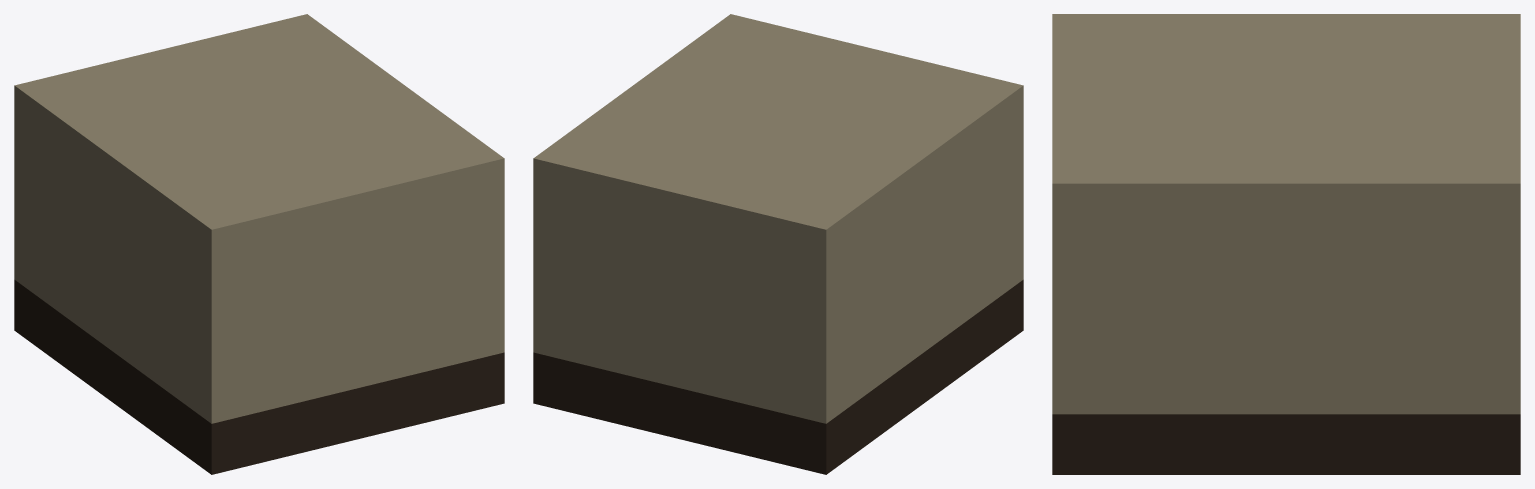
File: sheriff_office.glb
3 renders of one model, left to right at view 1: azimuth 30°, elevation 25°; view 2: azimuth 150°, elevation 25°; view 3: azimuth 270°, elevation 25°, orthographic. The views are drawn at different scales.
Parts seen in each view (by area): view 1: Cube.003; view 2: Cube.003; view 3: Cube.003.
Part boxes in pixels (<box>): Cube.003: <box>14,14,504,474</box>; Cube.003: <box>533,14,1023,474</box>; Cube.003: <box>1052,14,1520,474</box>.
Size of the model in its own units: 2 by 1.61 by 2.33.
